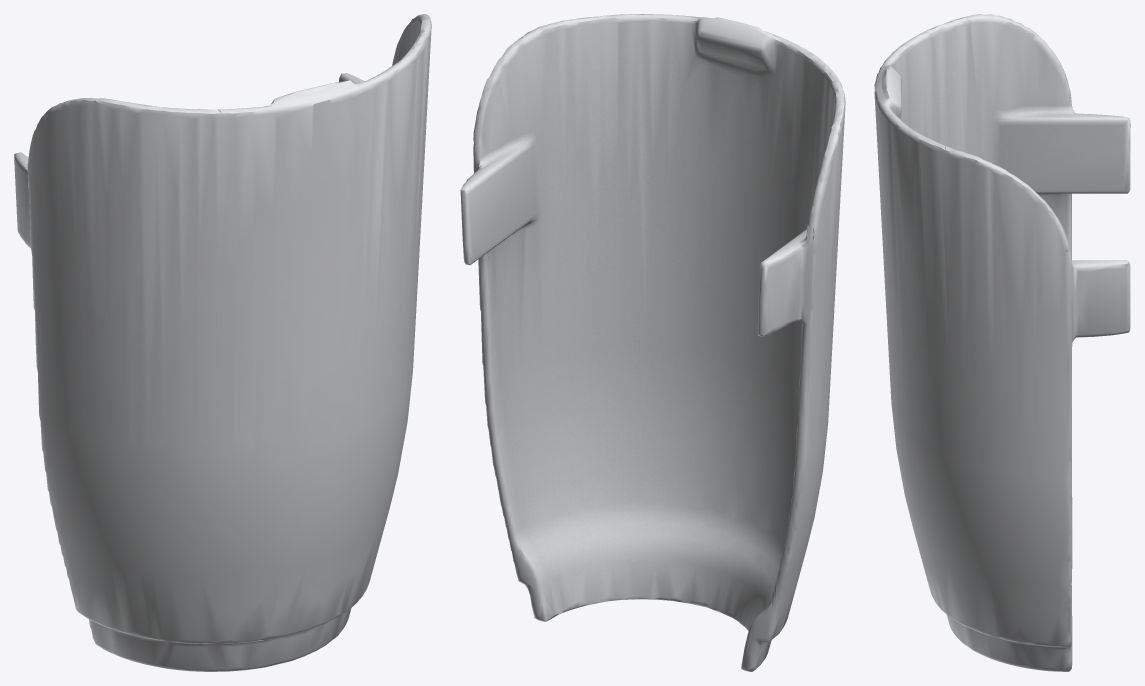
Rendered from right_forarm_cover.glb.
3 renders of one model, left to right at view 1: azimuth 30°, elevation 25°; view 2: azimuth 150°, elevation 25°; view 3: azimuth 270°, elevation 25°, orthographic. The views are drawn at different scales.
Visible parts, largest first — view 1: right_forarm_cover; view 2: right_forarm_cover; view 3: right_forarm_cover.
Boxes of the visible parts, <box> form: right_forarm_cover: <box>14,14,431,671</box>; right_forarm_cover: <box>460,14,845,671</box>; right_forarm_cover: <box>874,14,1130,671</box>.
Size of the model in its own units: 0.0705 by 0.1087 by 0.0465.
Materials: 1 (1 with a texture image).
